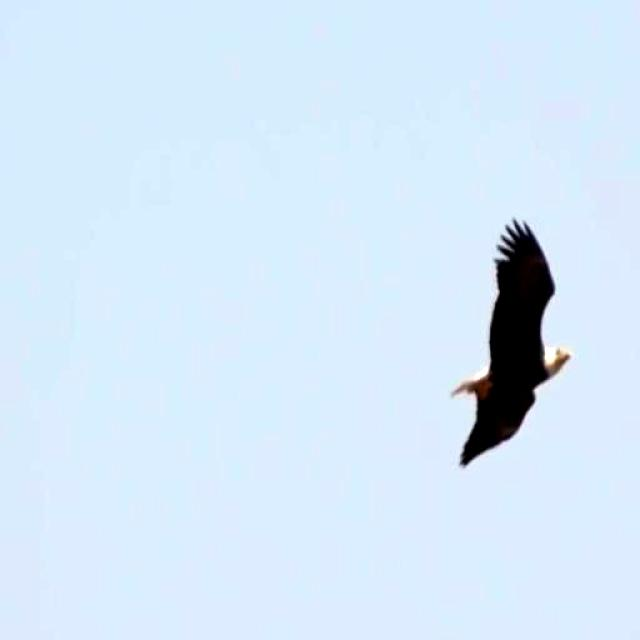airplane: (430, 175, 572, 488)
